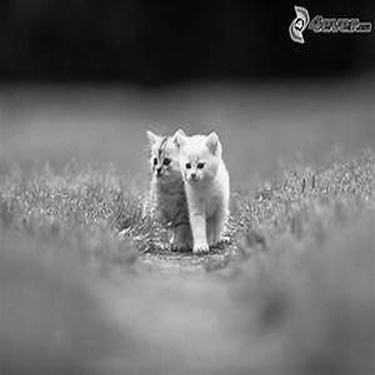cat: (175, 127, 232, 253), (140, 127, 194, 253)
